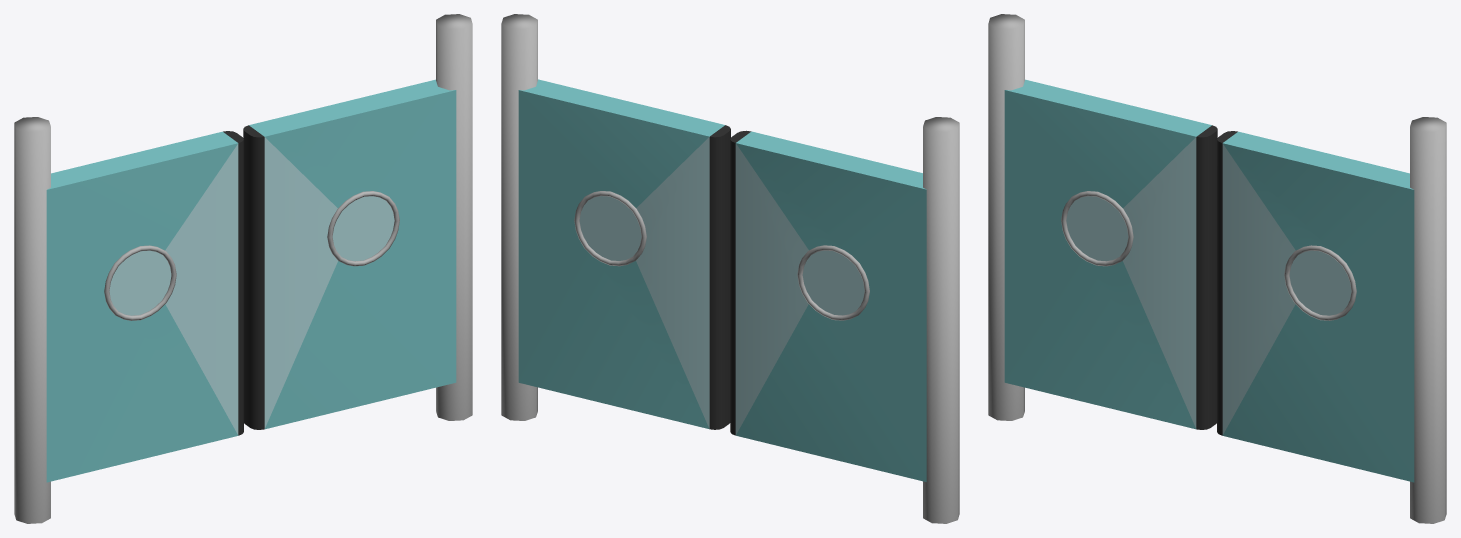
The model's file is PoolDoubleDoor.fbx.
The picture shows the model from 3 angles, left to right: view 1: azimuth 30°, elevation 25°; view 2: azimuth 150°, elevation 25°; view 3: azimuth 330°, elevation 25°; orthographic projection.
Parts seen in each view (by area): view 1: PoolDoubleDoor.L, PoolDoubleDoor.R, PoolDoubleDoor.R.Hinge, PoolDoubleDoor.L.Hinge; view 2: PoolDoubleDoor.L, PoolDoubleDoor.R, PoolDoubleDoor.R.Hinge, PoolDoubleDoor.L.Hinge; view 3: PoolDoubleDoor.R, PoolDoubleDoor.L, PoolDoubleDoor.L.Hinge, PoolDoubleDoor.R.Hinge.
Part boxes in pixels (x1,y1,x2,y2): PoolDoubleDoor.L: [243, 79, 456, 429]; PoolDoubleDoor.R: [46, 131, 243, 482]; PoolDoubleDoor.R.Hinge: [14, 117, 50, 523]; PoolDoubleDoor.L.Hinge: [436, 14, 472, 420]; PoolDoubleDoor.L: [518, 79, 730, 429]; PoolDoubleDoor.R: [730, 130, 926, 481]; PoolDoubleDoor.R.Hinge: [923, 117, 959, 523]; PoolDoubleDoor.L.Hinge: [501, 14, 537, 420]; PoolDoubleDoor.R: [1004, 79, 1217, 429]; PoolDoubleDoor.L: [1217, 131, 1414, 482]; PoolDoubleDoor.L.Hinge: [1410, 117, 1446, 523]; PoolDoubleDoor.R.Hinge: [988, 14, 1024, 420].
Bounding box in the file's own units: 38.84 × 2.87 × 31.98.
